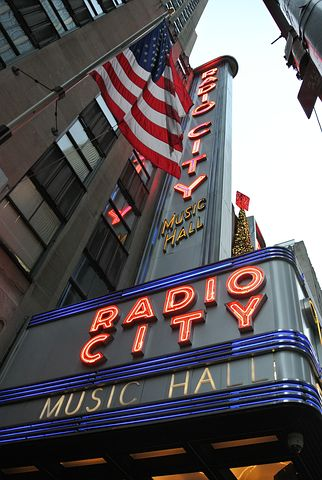Flag: (87, 16, 197, 184)
